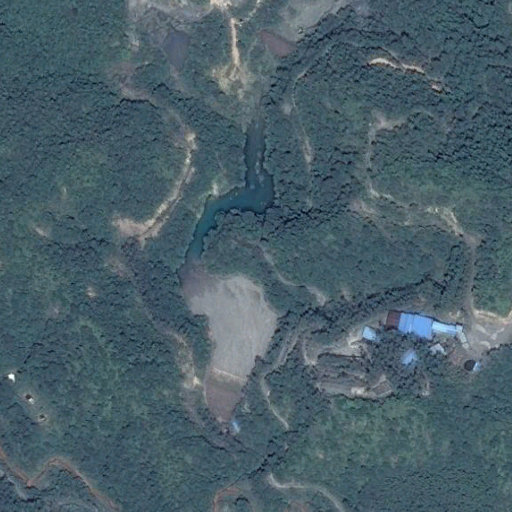tp: (174, 118, 292, 430)
